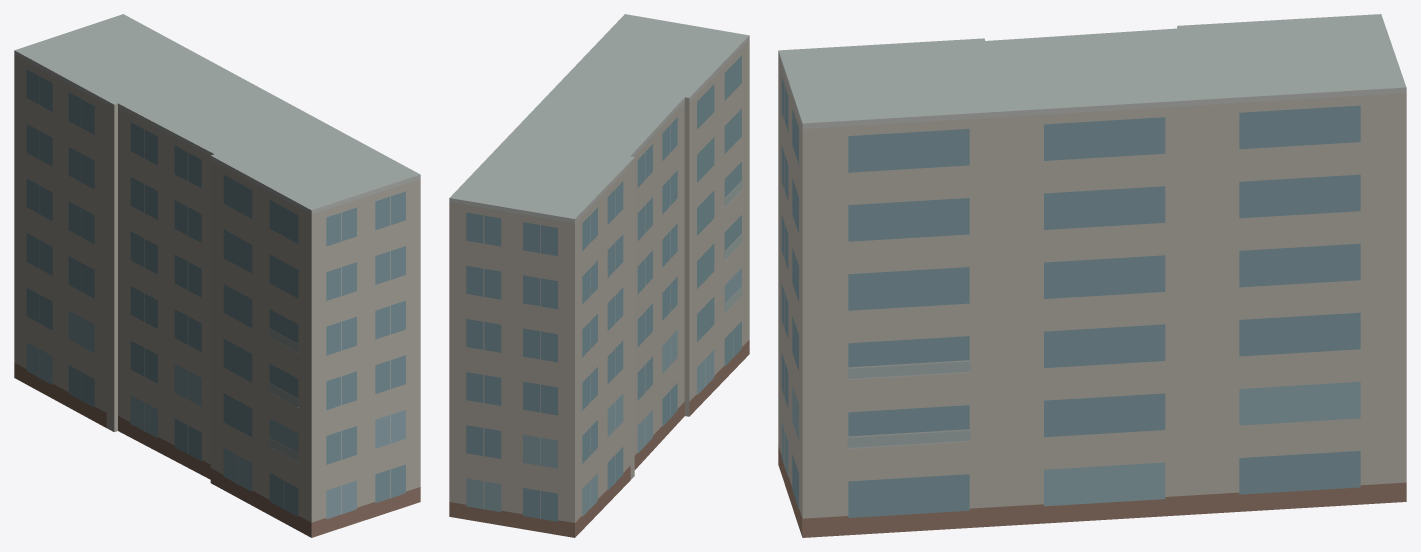
Rendered from survey-upis-32576679.glb.
3 renders of one model, left to right at view 1: azimuth 30°, elevation 25°; view 2: azimuth 150°, elevation 25°; view 3: azimuth 270°, elevation 25°, orthographic. The views are drawn at different scales.
Visible parts, largest first — view 1: survey-upis-32576679.tmp; view 2: survey-upis-32576679.tmp; view 3: survey-upis-32576679.tmp.
Boxes of the visible parts, bbox=[...] form: survey-upis-32576679.tmp: bbox=[14, 14, 420, 537]; survey-upis-32576679.tmp: bbox=[449, 14, 749, 537]; survey-upis-32576679.tmp: bbox=[778, 14, 1406, 537].
Size of the model in its own units: 10.38 by 18.3 by 25.15.
